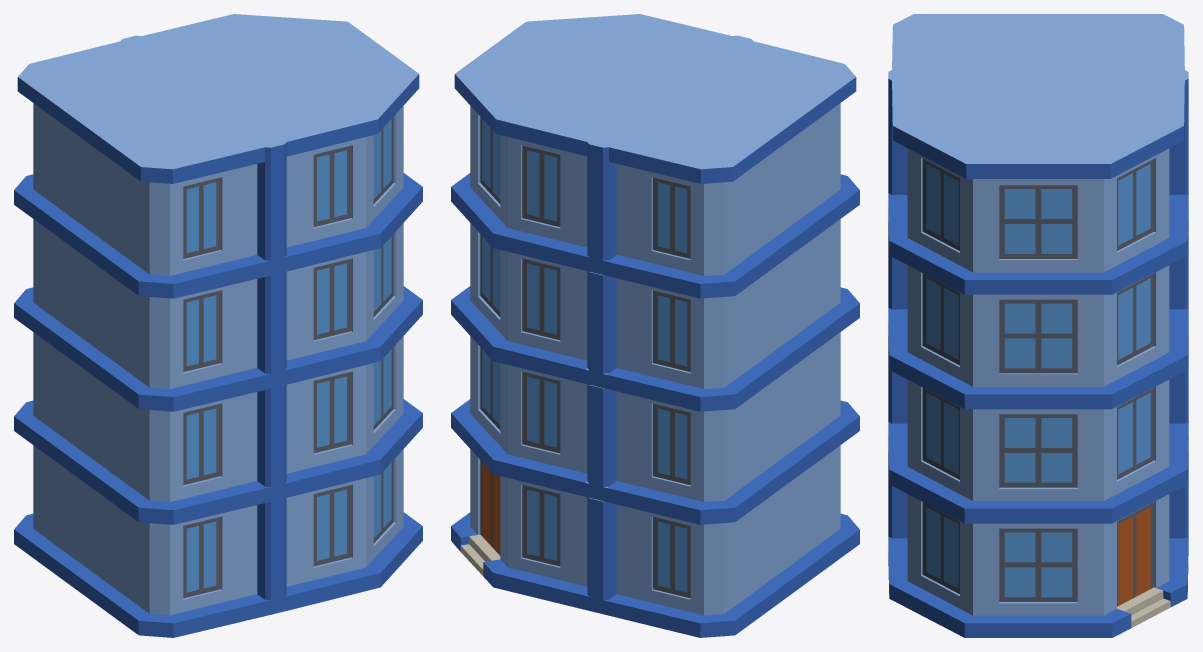
The picture shows the model from 3 angles, left to right: view 1: azimuth 30°, elevation 25°; view 2: azimuth 150°, elevation 25°; view 3: azimuth 270°, elevation 25°; orthographic projection.
Parts seen in each view (by area): view 1: Predio 10.001; view 2: Predio 10.001; view 3: Predio 10.001.
Boxes of the visible parts, x1,y1,x2,y2 form: Predio 10.001: [14, 14, 422, 637]; Predio 10.001: [451, 14, 859, 637]; Predio 10.001: [888, 14, 1188, 637].
Size of the model in its own units: 6649 by 9571 by 5520.
